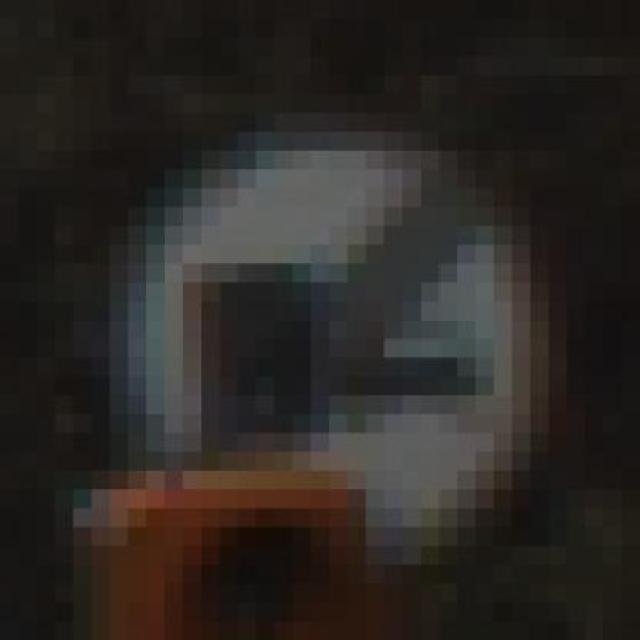Overtaking by trucks is prohibited: (91, 113, 567, 584)
